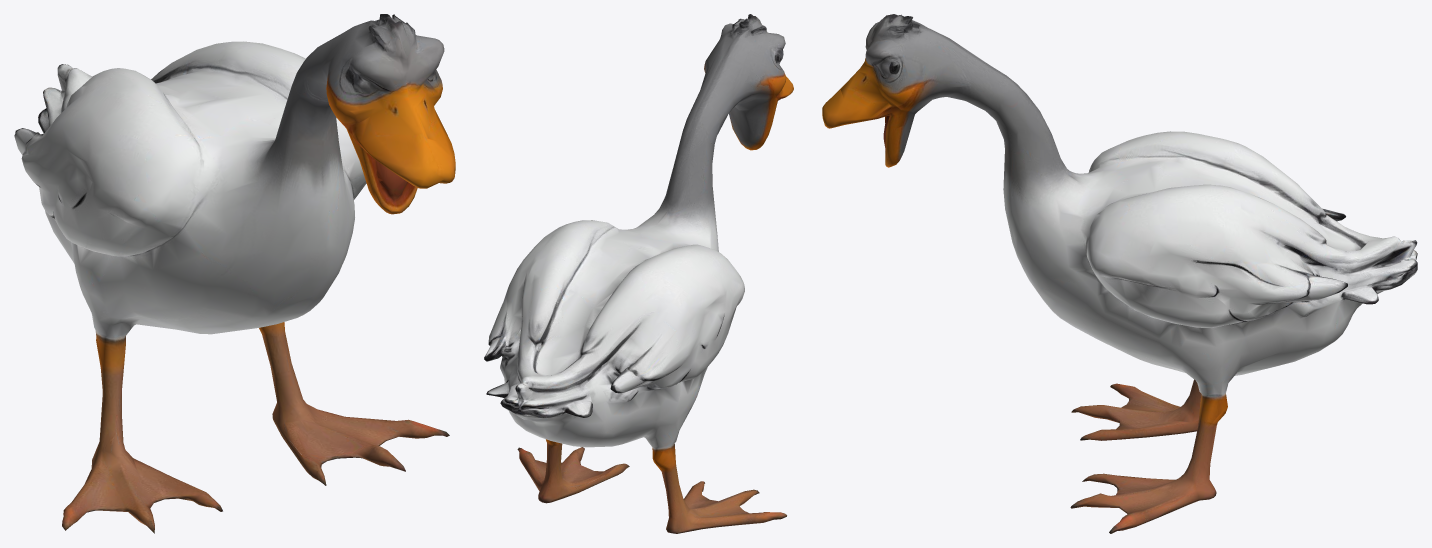
Rendered from goose.glb.
3 views of the same model, side by side, from view 1: azimuth 30°, elevation 25°; view 2: azimuth 150°, elevation 25°; view 3: azimuth 270°, elevation 25° (orthographic). The views are drawn at different scales.
Parts seen in each view (by area): view 1: Mesh_0; view 2: Mesh_0; view 3: Mesh_0.
Part boxes in pixels (x1,y1,x2,y2): Mesh_0: (14, 14, 455, 533); Mesh_0: (484, 14, 793, 533); Mesh_0: (822, 14, 1417, 533).
Size of the model in its own units: 1.18 by 1.66 by 2.
Materials: 1 (1 with a texture image).
